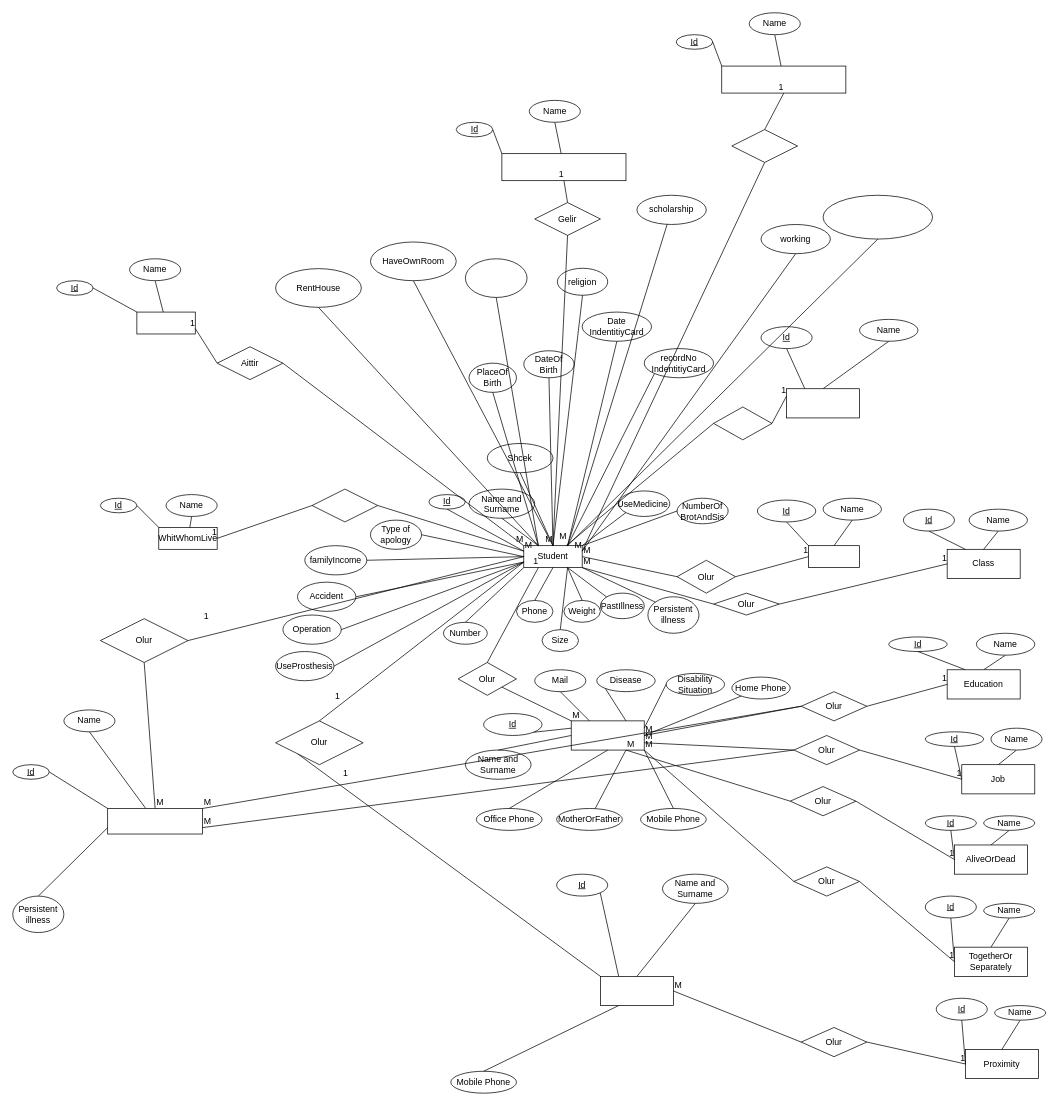
This 1059x1106 diagram has some shape labels left out. The shapes that lost their labels are listed below. From the top down, each one's centre as x and y in pixels, then its label:
At [783,79]: "familyIncomeStatus".
At [764,145]: "Sahiptir".
At [563,167]: "HowGetToSchool".
At [877,217]: "outsidersFromFamily".
At [496,277]: "CameFrom Abrouad".
At [165,322]: "BloodGroup".
At [742,423]: "Isınır".
At [823,403]: "HomeHeating".
At [344,505]: "Yaşar".
At [834,556]: "Branch".
At [607,735]: "Family".
At [155,821]: "BrotherAndSister".
At [636,991]: "Guardian".
